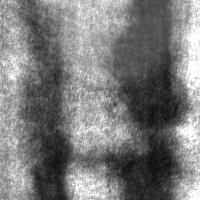patches: (38, 0, 190, 88), (113, 1, 182, 128), (22, 13, 69, 198), (106, 134, 183, 199)
